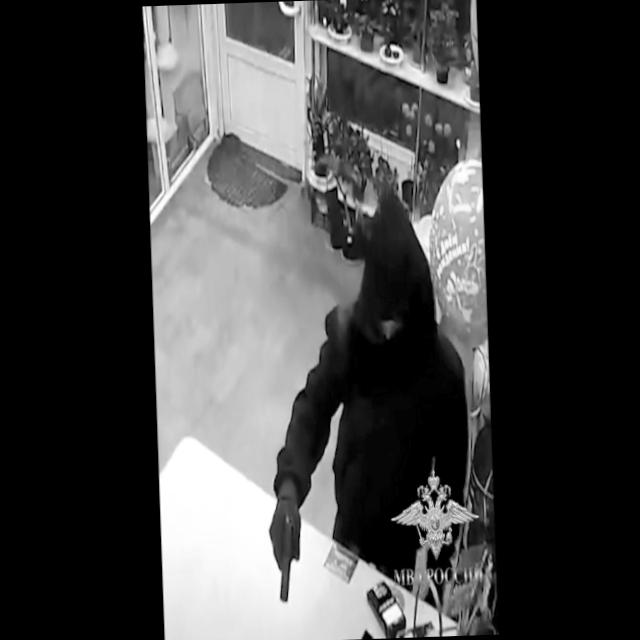gun: (269, 494, 306, 606)
person with a gun: (253, 206, 471, 604)
